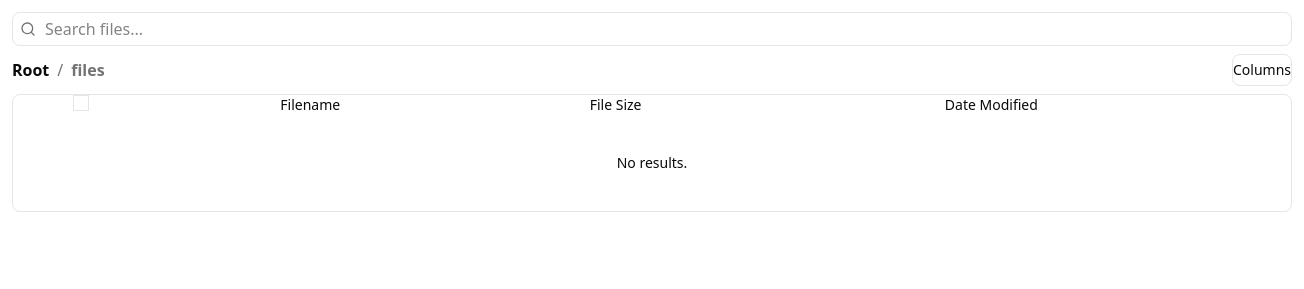
Scenario: Search Integration › Search Results Display › displays search results in table
Type "document" into the field with placeholder "Search files..." at coordinates (652, 29), box x1=12 y1=12 x2=1292 y2=46
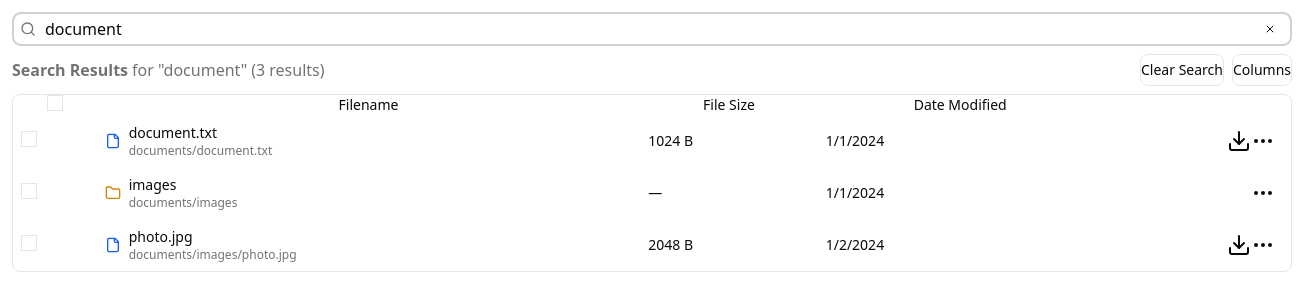
Result: the text "document.txt" is shown at x1=129 y1=123 x2=217 y2=142
Result: the text "images" is shown at x1=129 y1=175 x2=176 y2=194
Result: the text "photo.jpg" is shown at x1=129 y1=227 x2=192 y2=246
